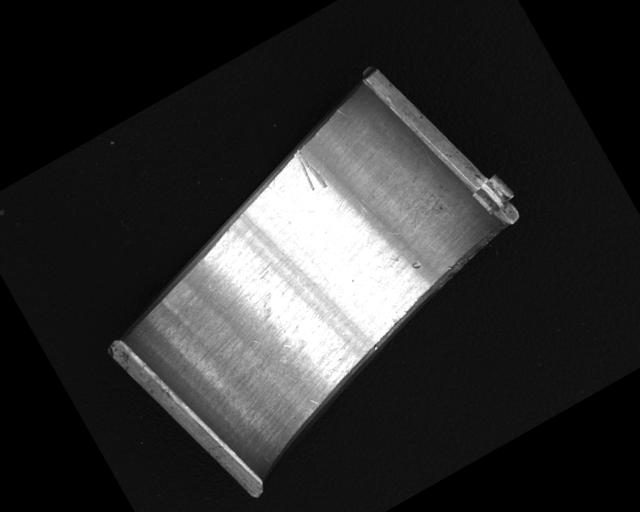bruise: (409, 258, 424, 273)
nick: (288, 144, 329, 195), (334, 104, 349, 121)
